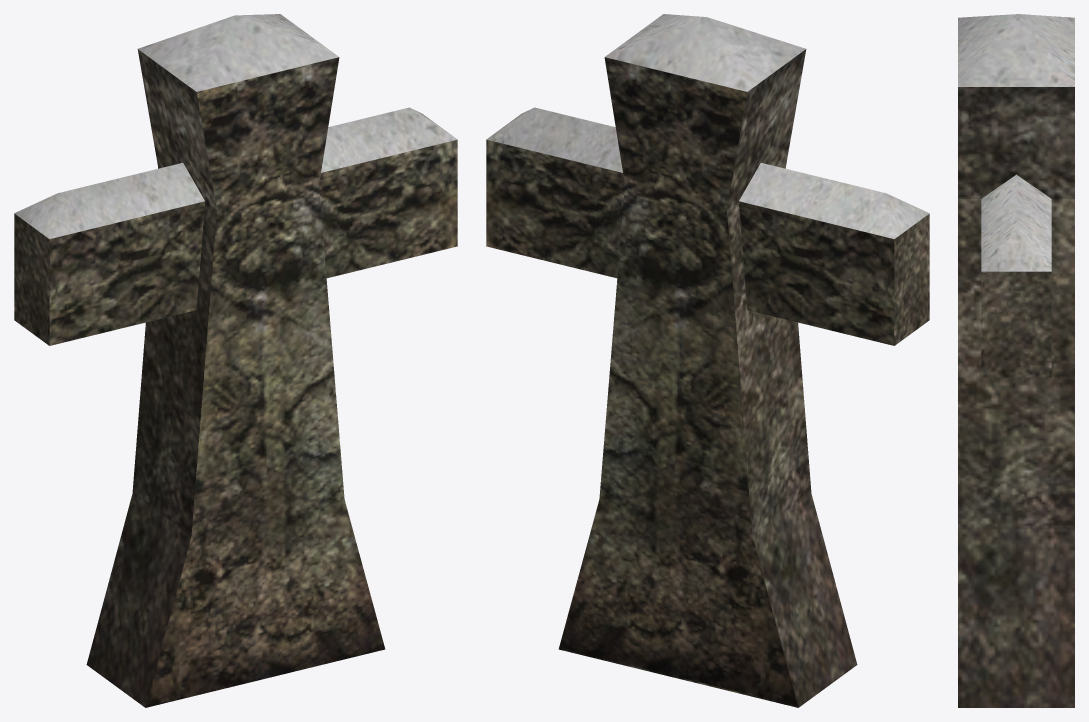
File: tombstone_sm_09_snow.fbx
3 renders of one model, left to right at view 1: azimuth 30°, elevation 25°; view 2: azimuth 150°, elevation 25°; view 3: azimuth 270°, elevation 25°, orthographic.
Visible parts, largest first — view 1: mesh_0, mesh_2, mesh_3, mesh_1; view 2: mesh_0, mesh_2, mesh_3, mesh_1; view 3: mesh_0, mesh_1, mesh_2, mesh_3.
Boxes of the visible parts, bbox=[...] form: mesh_0: bbox=[86, 49, 385, 707]; mesh_2: bbox=[14, 139, 457, 345]; mesh_3: bbox=[14, 107, 457, 238]; mesh_1: bbox=[138, 14, 338, 91]; mesh_0: bbox=[558, 49, 857, 707]; mesh_2: bbox=[486, 139, 929, 345]; mesh_3: bbox=[486, 107, 929, 238]; mesh_1: bbox=[605, 14, 805, 91]; mesh_0: bbox=[958, 87, 1074, 707]; mesh_1: bbox=[958, 14, 1074, 86]; mesh_2: bbox=[981, 271, 1051, 377]; mesh_3: bbox=[981, 174, 1051, 271].
Bounding box in the file's own units: 80 × 120 × 20.
Materials: 2 (2 with a texture image).
